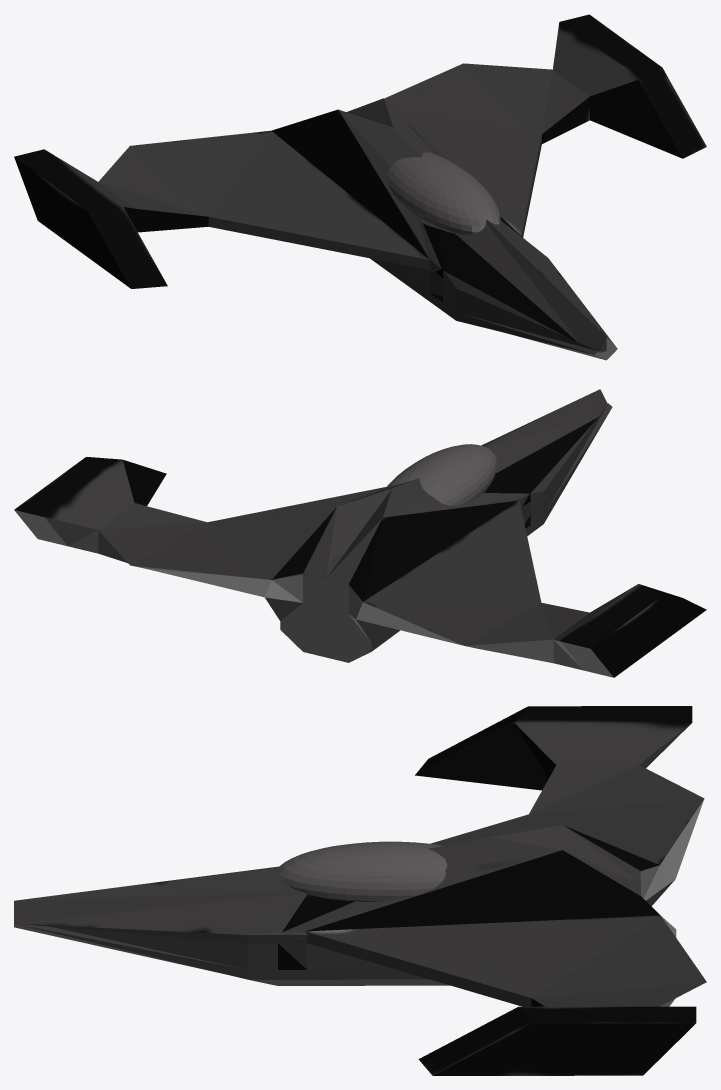
File: Player.obj
The picture shows the model from 3 angles, top to bottom: view 1: azimuth 30°, elevation 25°; view 2: azimuth 150°, elevation 25°; view 3: azimuth 270°, elevation 25°; orthographic projection. The views are drawn at different scales.
Visible parts, largest first — view 1: 立方体_立方体.002; view 2: 立方体_立方体.002; view 3: 立方体_立方体.002.
Part boxes in pixels (<box>): 立方体_立方体.002: <box>14,14,706,360</box>; 立方体_立方体.002: <box>14,389,706,677</box>; 立方体_立方体.002: <box>14,706,706,1075</box>.
Bounding box in the file's own units: 8.13 × 1.62 × 7.51.
1 material, 1 textured.
